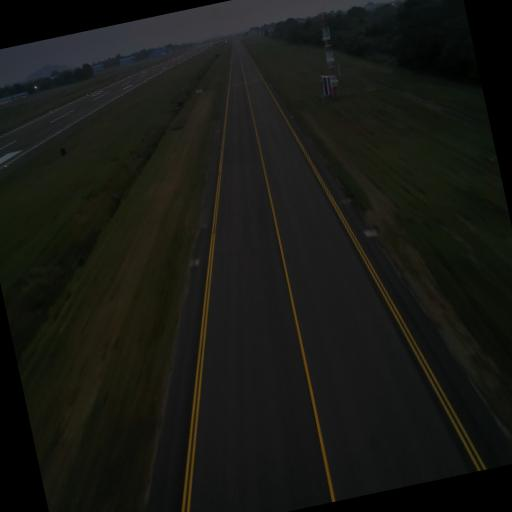on: (364, 225, 370, 234)
